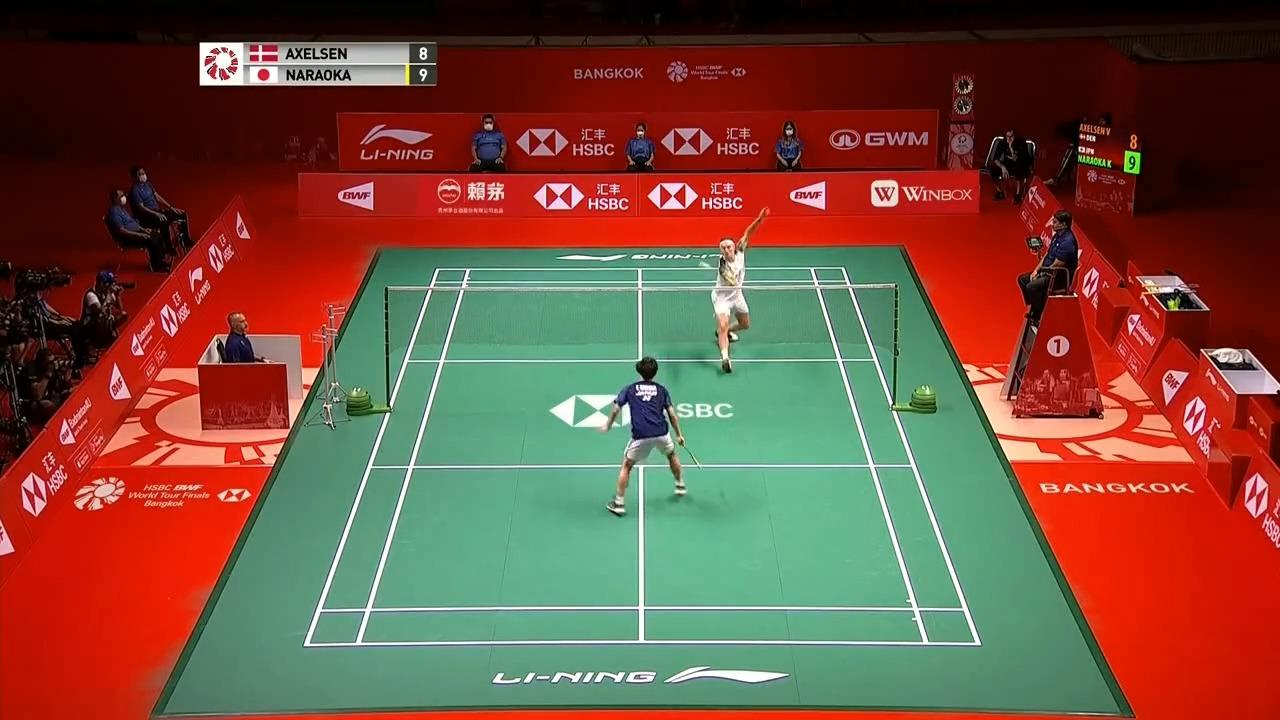shuttle: (700, 261, 712, 271)
